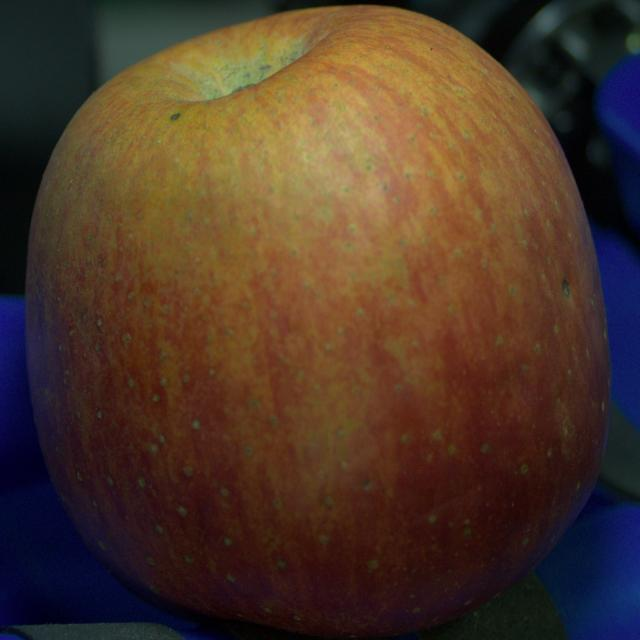apple: (26, 6, 610, 636)
pest: (563, 281, 570, 299), (171, 114, 180, 119)
